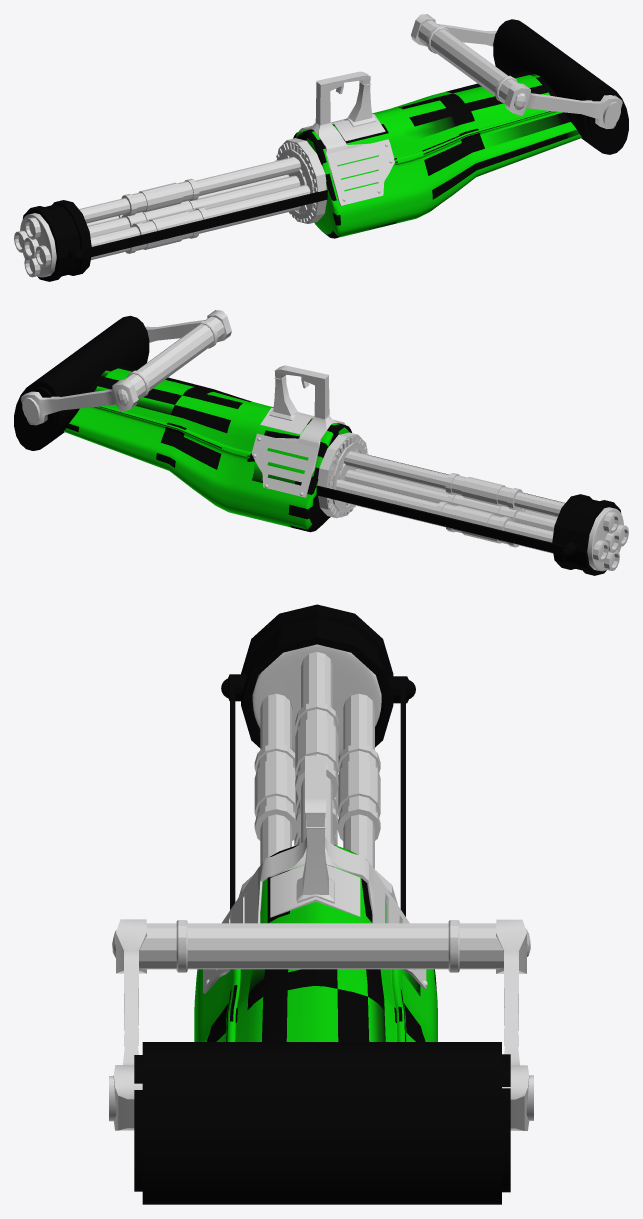
File: MachineGub_test2.fbx
The picture shows the model from 3 angles, top to bottom: view 1: azimuth 30°, elevation 25°; view 2: azimuth 150°, elevation 25°; view 3: azimuth 270°, elevation 25°; orthographic projection. The views are drawn at different scales.
Visible parts, largest first — view 1: main_Machine, Rotaiting_Muzzels, Hand_Lever, parts, polySurface1; view 2: main_Machine, Rotaiting_Muzzels, Hand_Lever, parts; view 3: main_Machine, Hand_Lever, Rotaiting_Muzzels, parts.
Part boxes in pixels (x1,y1,x2,y2): main_Machine: (22,19,628,281); Rotaiting_Muzzels: (14,138,326,277); Hand_Lever: (411,14,622,128); parts: (298,71,393,203); polySurface1: (327,142,394,205); main_Machine: (14,315,621,575); Rotaiting_Muzzels: (318,432,628,571); Hand_Lever: (20,310,231,425); parts: (251,365,345,497); main_Machine: (134,604,510,1204); Hand_Lever: (109,919,533,1130); Rotaiting_Muzzels: (239,644,397,904); parts: (205,756,426,989).
Bounding box in the file's own units: 11.32 × 2.67 × 3.75.
